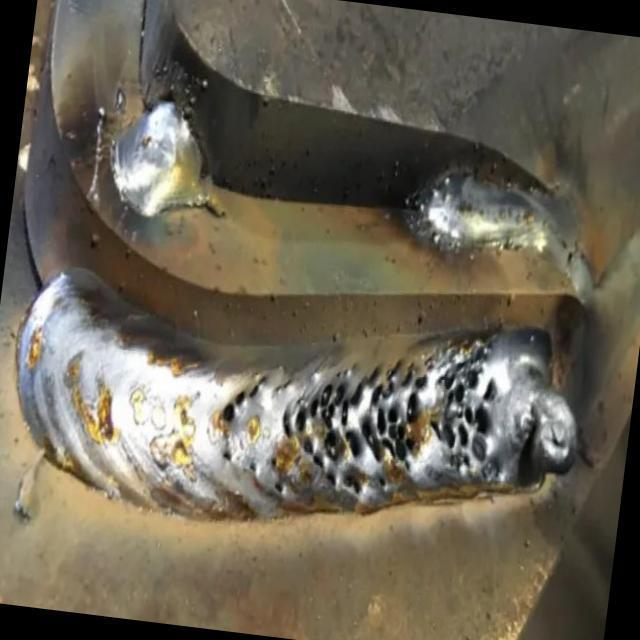defect: (279, 325, 508, 504), (219, 368, 271, 429), (219, 442, 234, 467), (272, 479, 284, 496), (247, 458, 257, 477), (270, 455, 279, 469)
